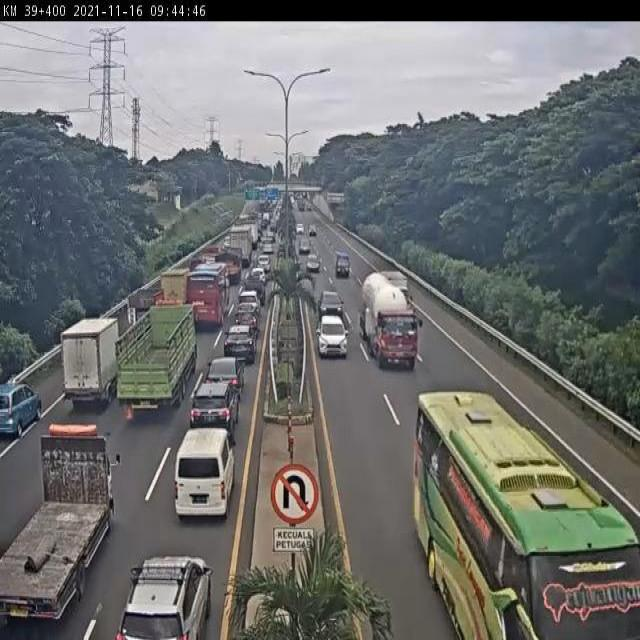big bus: (411, 386, 640, 640), (185, 264, 229, 327)
car: (112, 553, 212, 640), (172, 433, 232, 518), (188, 382, 236, 447), (0, 384, 43, 440), (204, 361, 245, 403), (316, 314, 349, 358), (221, 329, 253, 368), (232, 308, 259, 335), (236, 288, 261, 316)
small truck: (63, 318, 122, 406), (124, 284, 167, 327), (156, 265, 189, 312)
truck-l-: (116, 305, 197, 415)
truck-m-: (0, 422, 121, 626)
truck-xl-: (362, 272, 417, 367)
